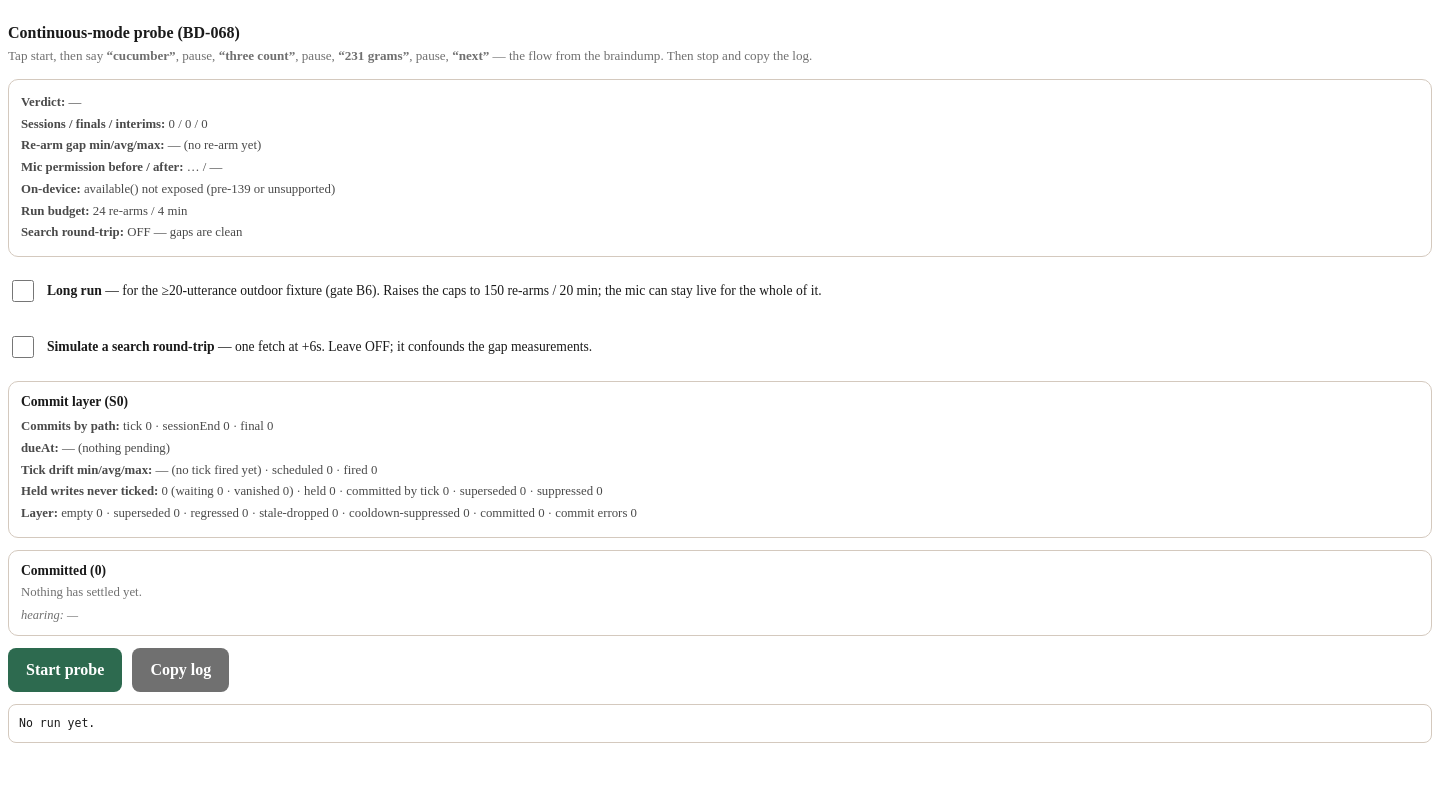
Test: ContinuousVoiceProbe — S0 debounce host › a byte-identical re-delivery inside one session commits ONCE
Click the button "Start probe".
click(65, 670)  # box [8,648,122,692]
Wait 627 ms
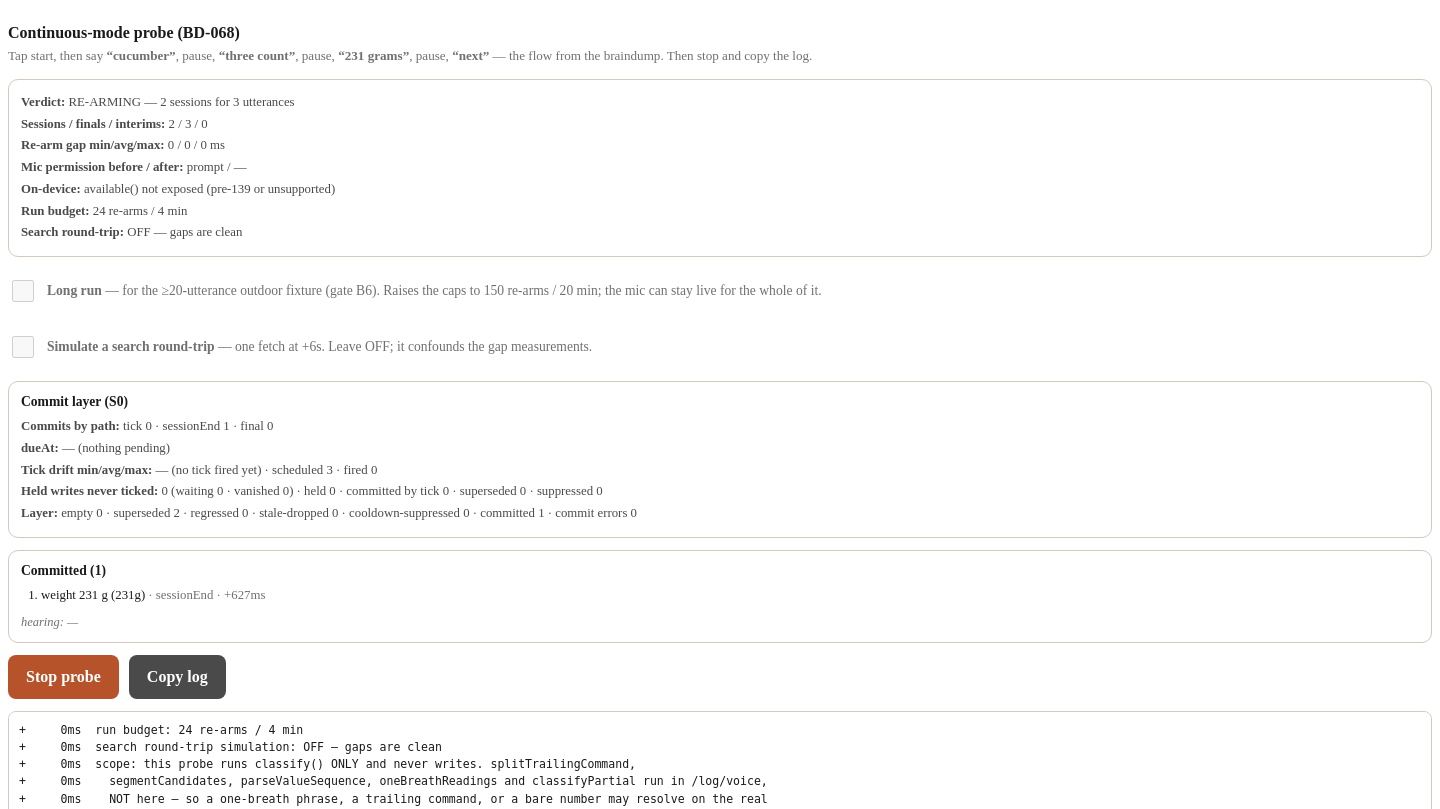
Now the list item with test id "voice-commit-row" shows "weight 231 g", box [41,588,145,602]
